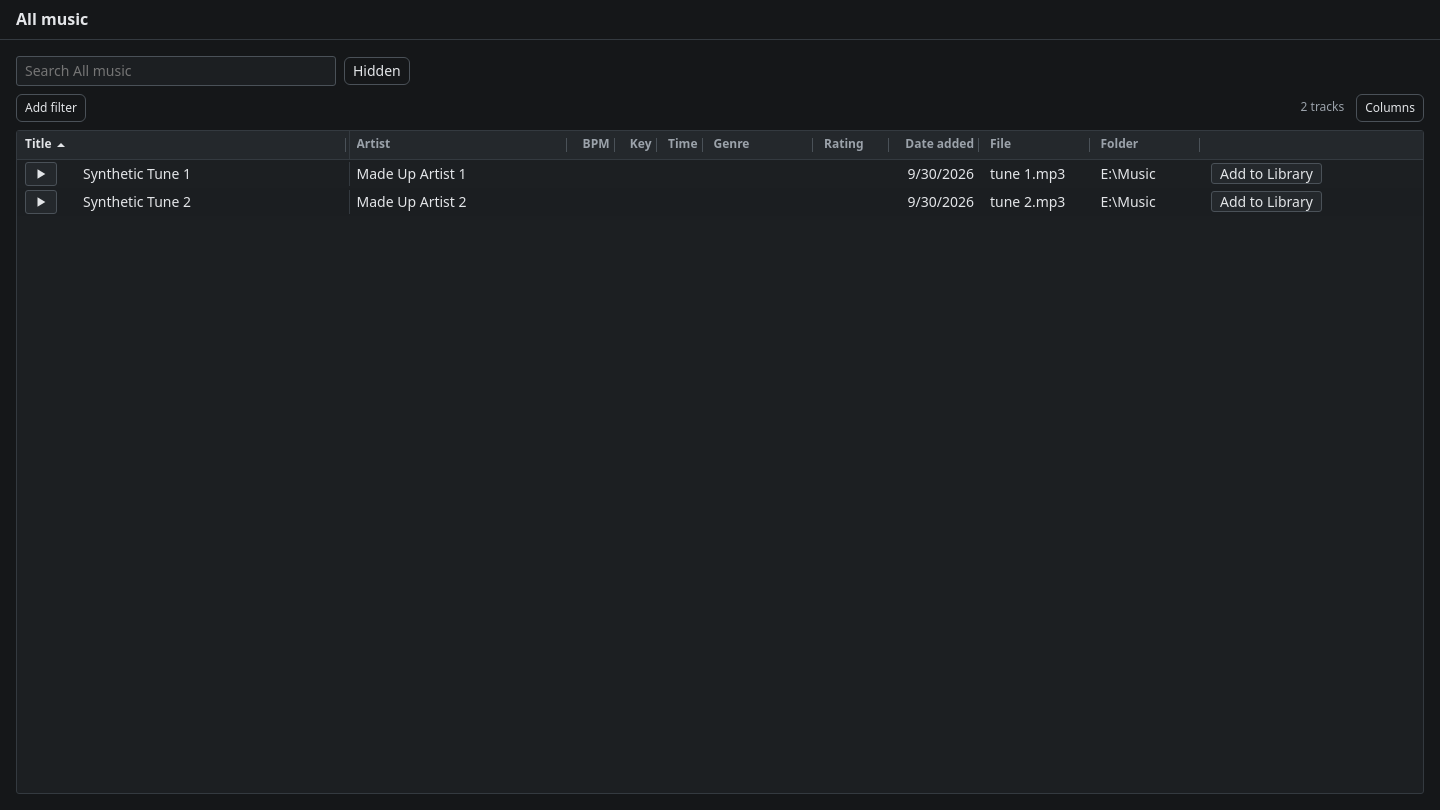
Test: the All music screen › narrows the list by the search, and names what's absent when nothing matches
Type "Tune 2" into the search field labelled "Search All music" at (176, 71), box top-left (16, 56), bottom-right (336, 86)
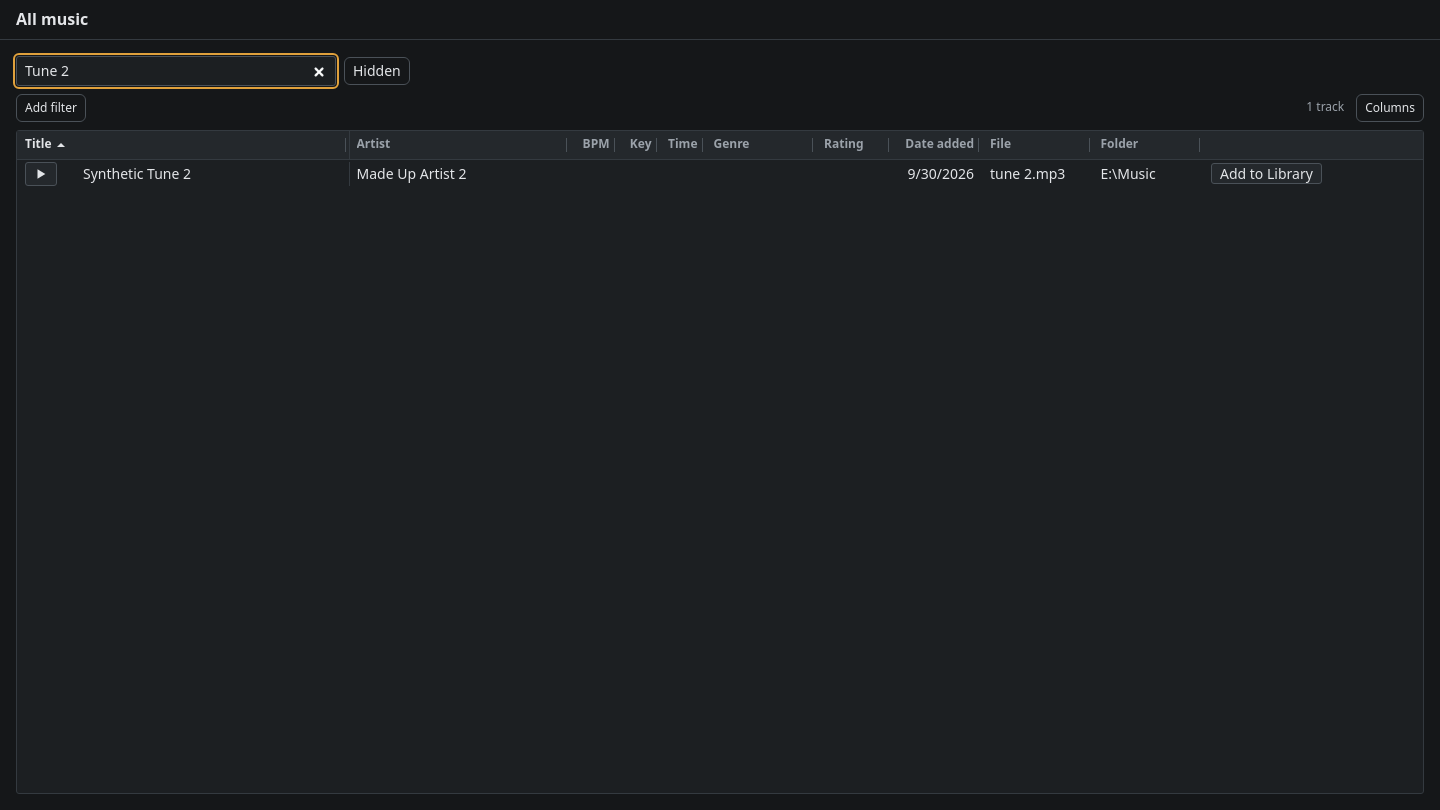
Check: the row that starts with "Synthetic Tune 2" is shown, box top-left (83, 164), bottom-right (191, 183)
Type " zzz" into the search field at (176, 71), box top-left (16, 56), bottom-right (336, 86)
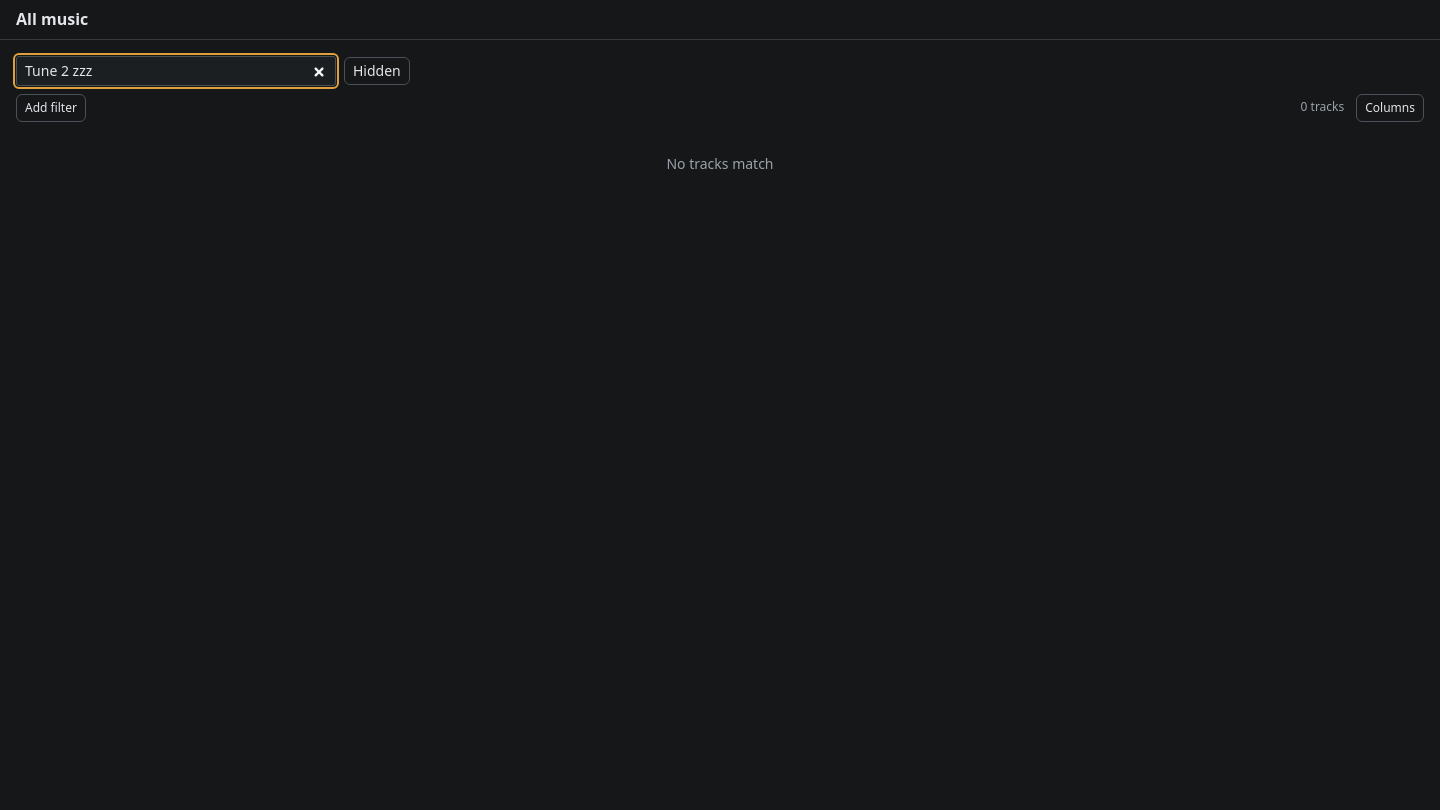
Check: the text "No tracks match" is shown, box top-left (666, 154), bottom-right (774, 173)
